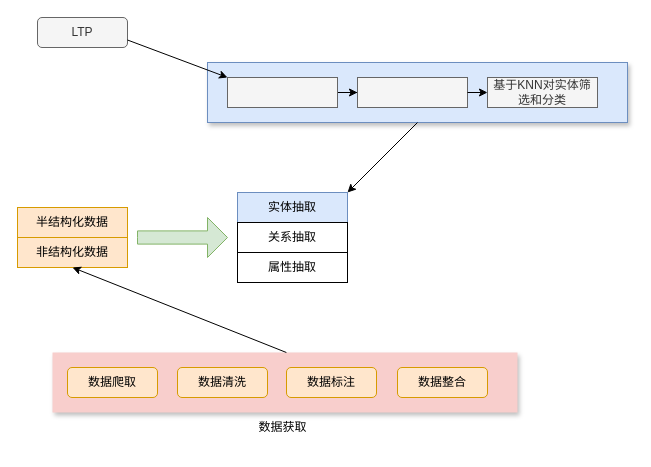
Some shapes in this 651 by 467 pixel diagram are drawn without their labels. Each missing label, with the centre of its shape:
分词及词性标注: (282,92)
基于启发式规则筛选: (412,92)
